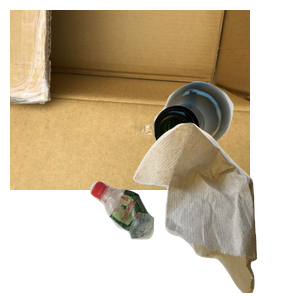cardboard: (10, 10, 250, 190)
glass: (151, 79, 300, 221)
plastic: (87, 178, 234, 300)
trash: (131, 120, 300, 300)
